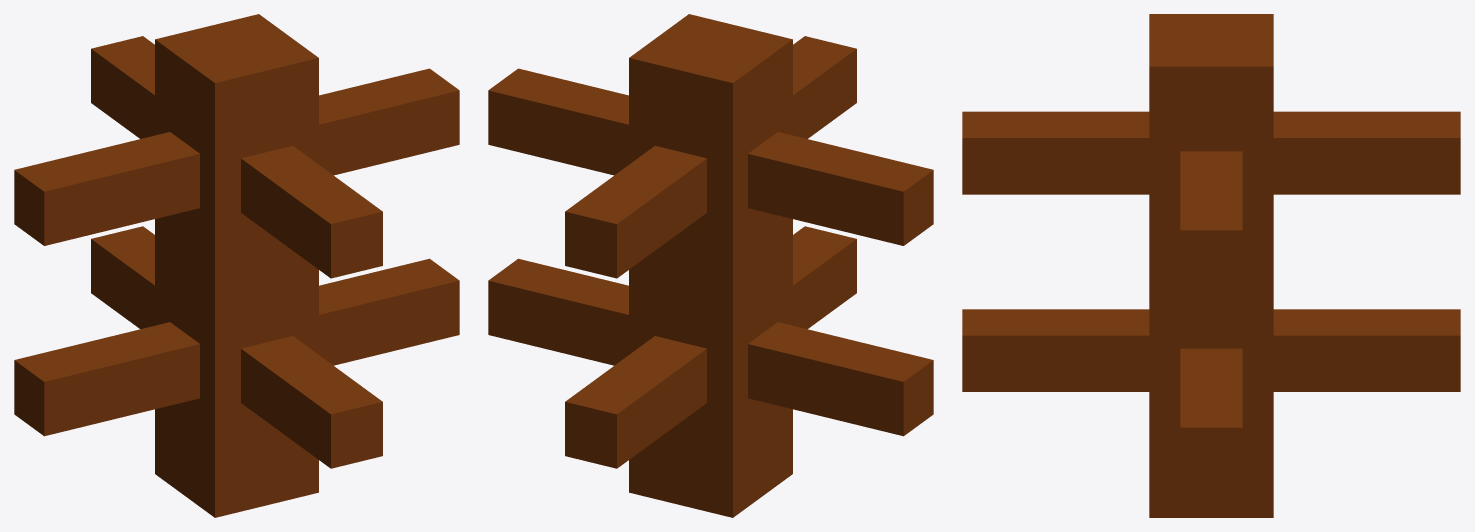
Rendered from fence.obj.
The picture shows the model from 3 angles, left to right: view 1: azimuth 30°, elevation 25°; view 2: azimuth 150°, elevation 25°; view 3: azimuth 270°, elevation 25°; orthographic projection. The views are drawn at different scales.
Parts seen in each view (by area): view 1: fence_post, fence_arm_bottom_south, fence_arm_top_south, fence_arm_bottom_east, fence_arm_top_east, fence_arm_top_north, fence_arm_bottom_north, fence_arm_bottom_west, fence_arm_top_west; view 2: fence_post, fence_arm_bottom_south, fence_arm_top_south, fence_arm_bottom_west, fence_arm_top_west, fence_arm_top_north, fence_arm_bottom_north, fence_arm_bottom_east, fence_arm_top_east; view 3: fence_post, fence_arm_top_west, fence_arm_top_east, fence_arm_bottom_west, fence_arm_bottom_east, fence_arm_top_north, fence_arm_bottom_north.
Part boxes in pixels (bbox=[...]): fence_post: bbox=[155, 14, 318, 517]; fence_arm_bottom_south: bbox=[14, 322, 199, 436]; fence_arm_top_south: bbox=[14, 132, 199, 245]; fence_arm_bottom_east: bbox=[241, 336, 382, 468]; fence_arm_top_east: bbox=[241, 146, 382, 278]; fence_arm_top_north: bbox=[319, 68, 459, 175]; fence_arm_bottom_north: bbox=[319, 258, 459, 365]; fence_arm_bottom_west: bbox=[91, 226, 154, 329]; fence_arm_top_west: bbox=[91, 36, 154, 138]; fence_post: bbox=[629, 14, 792, 517]; fence_arm_bottom_south: bbox=[748, 322, 933, 436]; fence_arm_top_south: bbox=[748, 132, 933, 245]; fence_arm_bottom_west: bbox=[565, 336, 706, 468]; fence_arm_top_west: bbox=[565, 146, 706, 278]; fence_arm_top_north: bbox=[488, 68, 628, 175]; fence_arm_bottom_north: bbox=[488, 258, 628, 365]; fence_arm_bottom_east: bbox=[793, 226, 856, 329]; fence_arm_top_east: bbox=[793, 36, 856, 138]; fence_post: bbox=[1149, 14, 1273, 517]; fence_arm_top_west: bbox=[1273, 111, 1460, 194]; fence_arm_top_east: bbox=[962, 111, 1149, 194]; fence_arm_bottom_west: bbox=[1273, 309, 1460, 391]; fence_arm_bottom_east: bbox=[962, 309, 1149, 391]; fence_arm_top_north: bbox=[1180, 151, 1242, 286]; fence_arm_bottom_north: bbox=[1180, 348, 1242, 483].
Bounding box in the file's own units: 1 × 1 × 1.
Materials: 1 (1 with a texture image).
